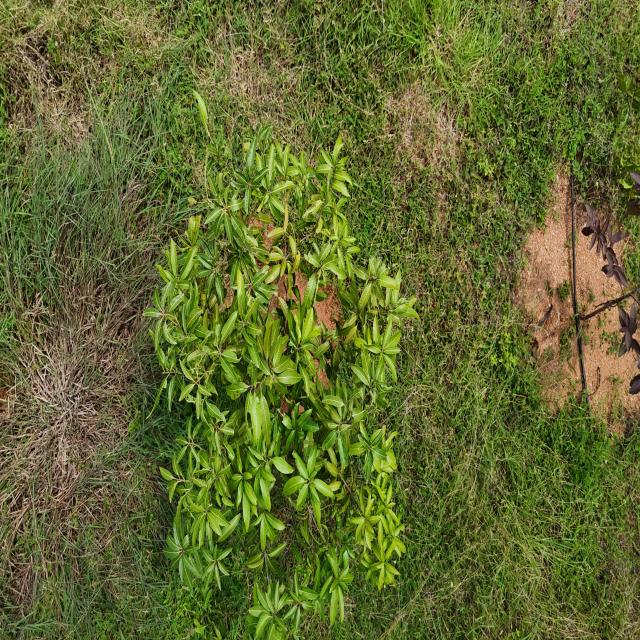mangoTree: (142, 90, 426, 640)
